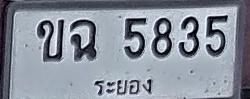3: (179, 16, 199, 57)
5: (124, 17, 146, 58), (206, 15, 228, 56)
8: (152, 17, 172, 57)
A02: (37, 19, 64, 61)
A09: (70, 19, 97, 60)
RYG: (93, 76, 155, 99)
